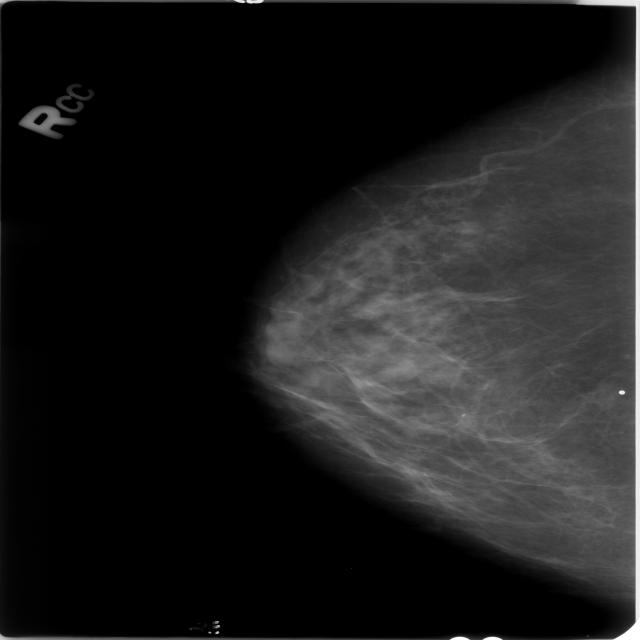cancer: (232, 226, 530, 478)
